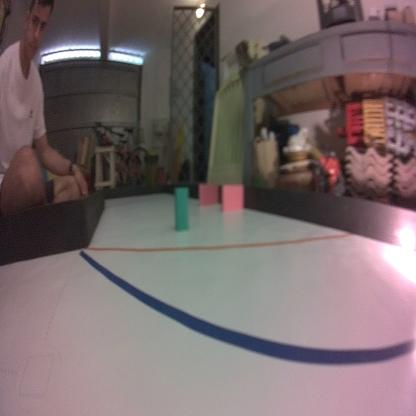green: (173, 186, 192, 234)
magenta: (221, 183, 245, 215), (198, 181, 219, 207)
